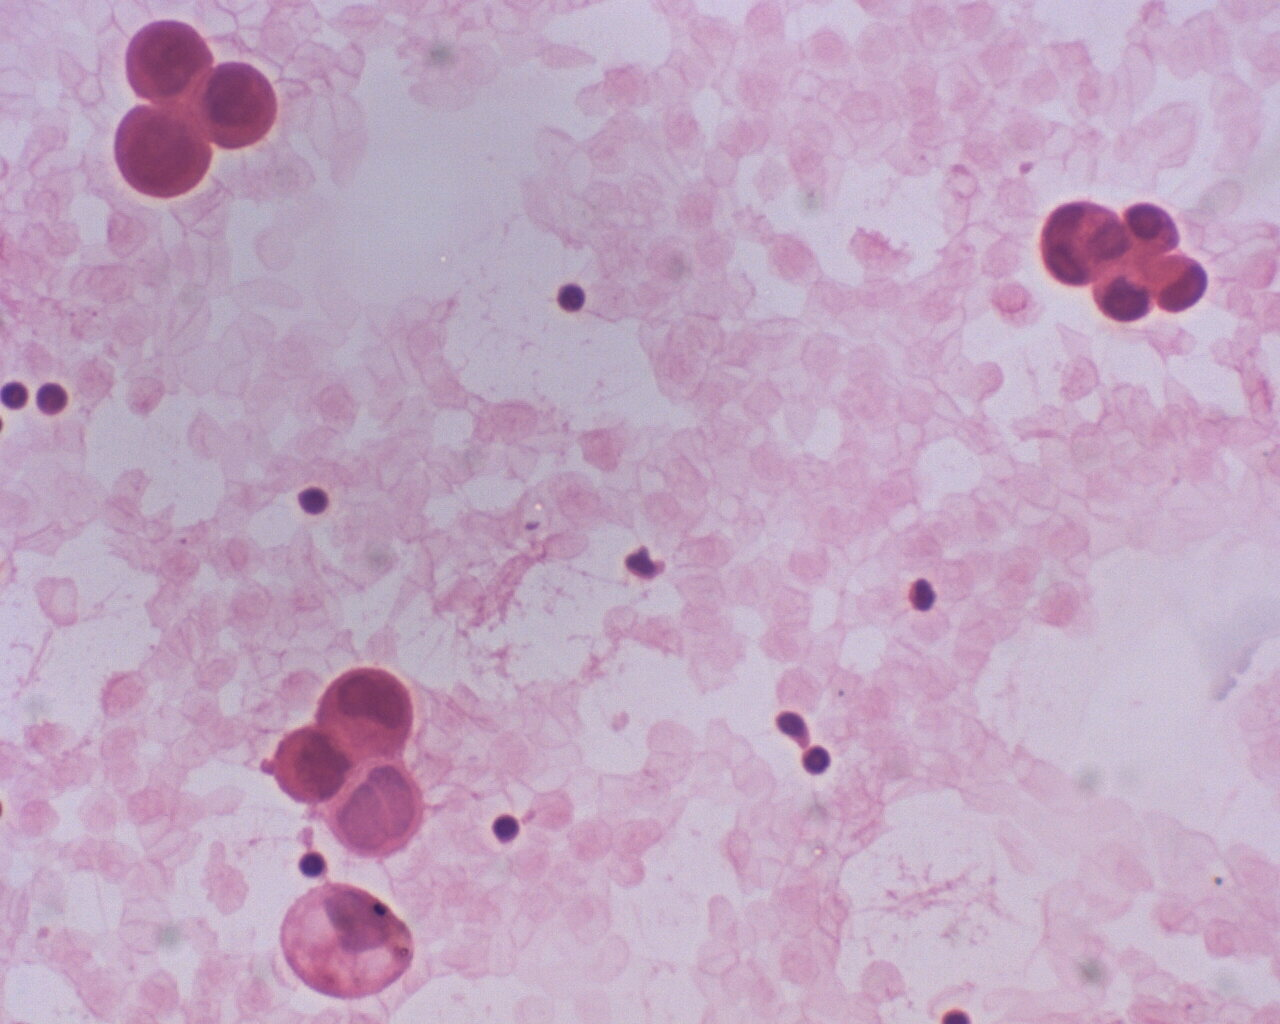ab: (283, 878, 421, 1007), (115, 100, 212, 203), (316, 665, 421, 752), (1043, 197, 1134, 294), (197, 59, 284, 156), (118, 18, 211, 104), (270, 725, 360, 809)
lymph: (546, 273, 595, 318), (286, 476, 330, 521), (485, 809, 527, 852)
